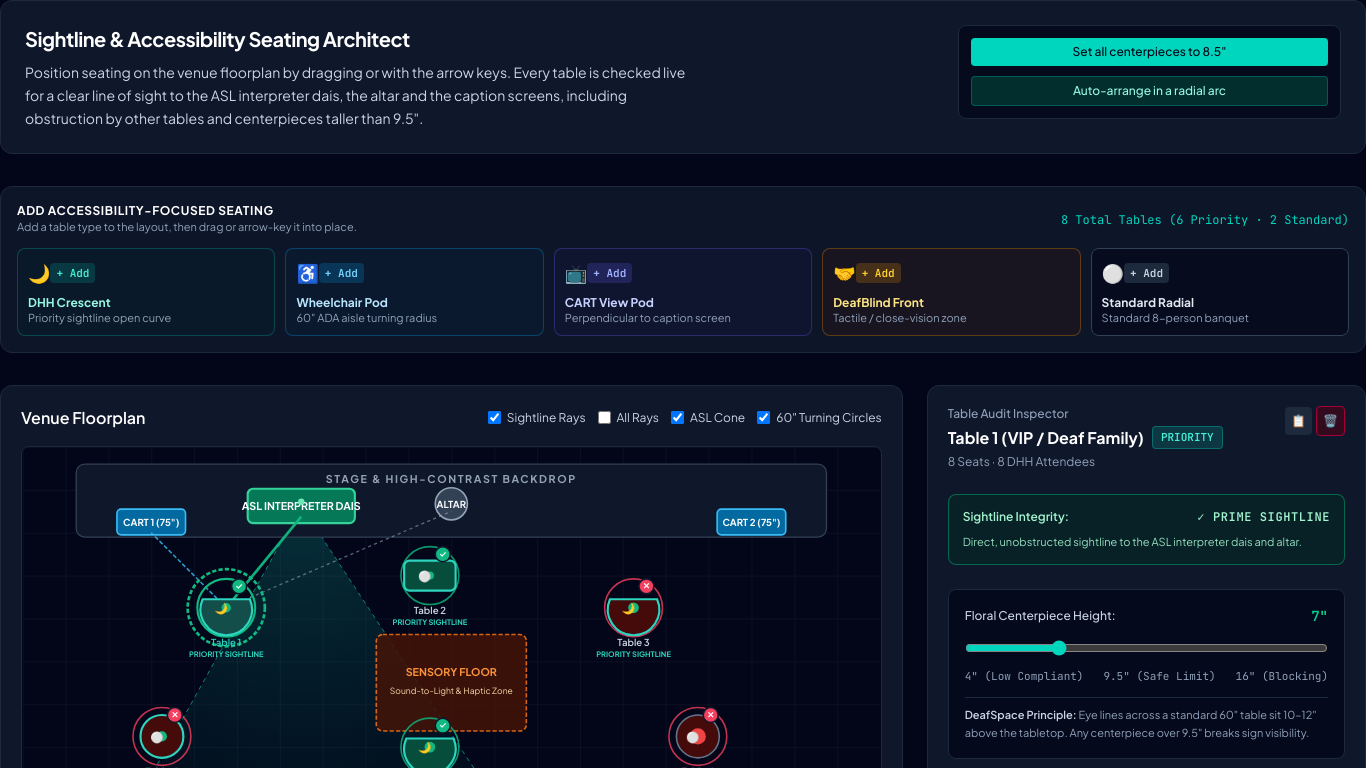
Test: FloorplanArchitect › adds a seating preset and selects it in the inspector
Click the button "♿ + Add Wheelchair Pod 60\" ADA aisle turning radius".
click(415, 292)  # box [285,248,544,336]
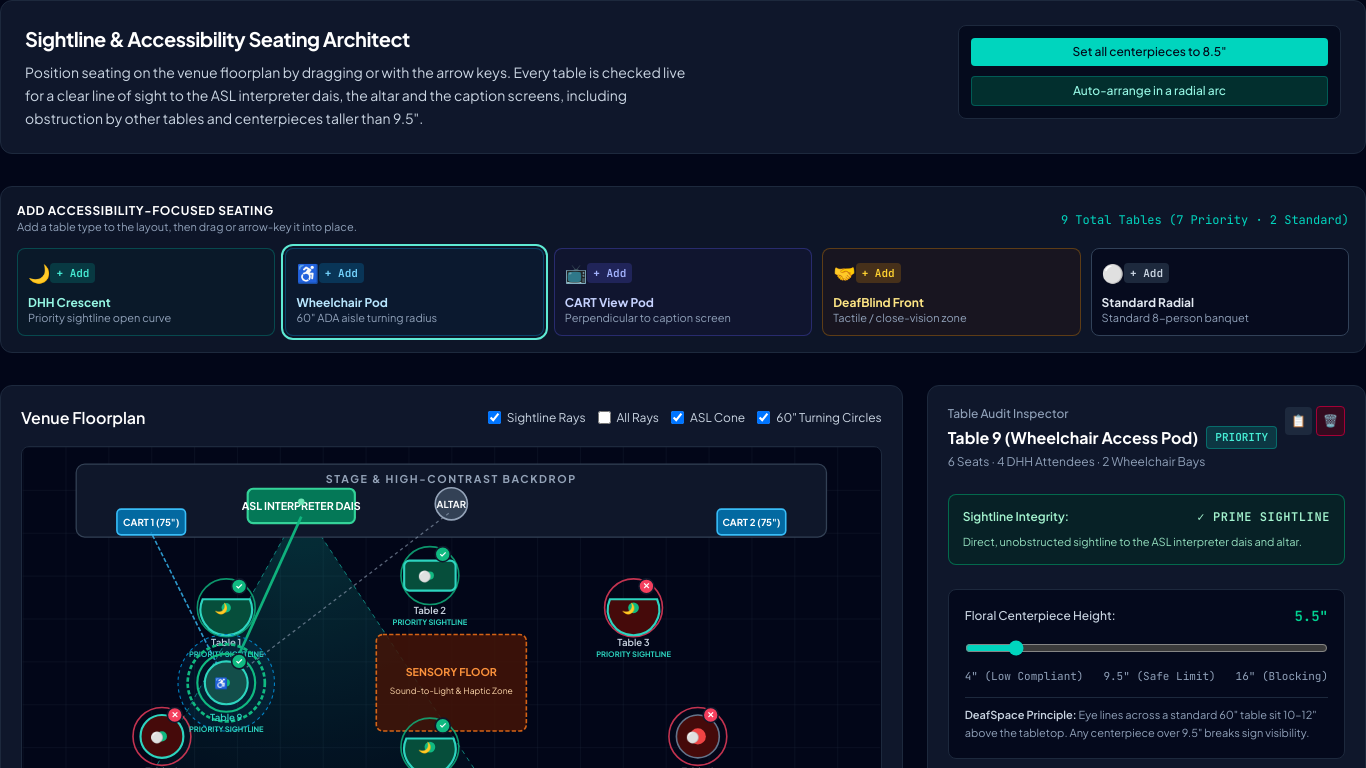
Expected: the heading "Table 9 (Wheelchair Access Pod)" is shown, [948,426,1198,450]
